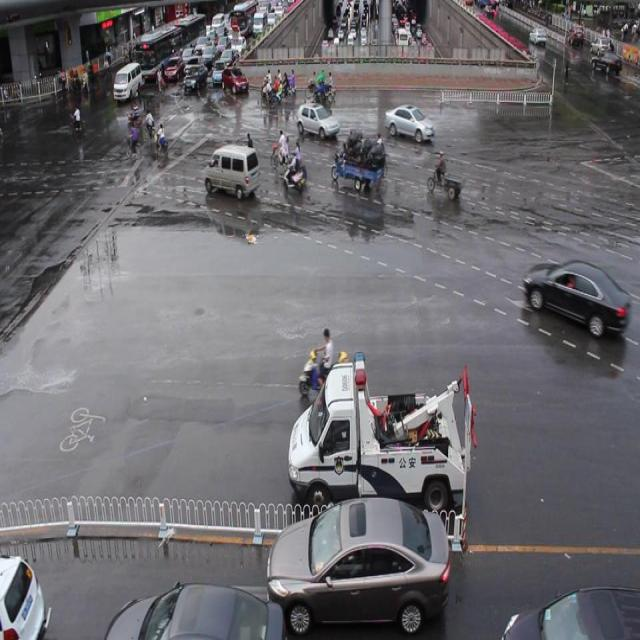bus: (287, 352, 473, 518)
car: (268, 496, 450, 632), (105, 578, 286, 640), (500, 583, 640, 640), (524, 259, 627, 334), (0, 548, 46, 640), (384, 103, 434, 146), (296, 102, 340, 139)
truck: (205, 145, 259, 200)
